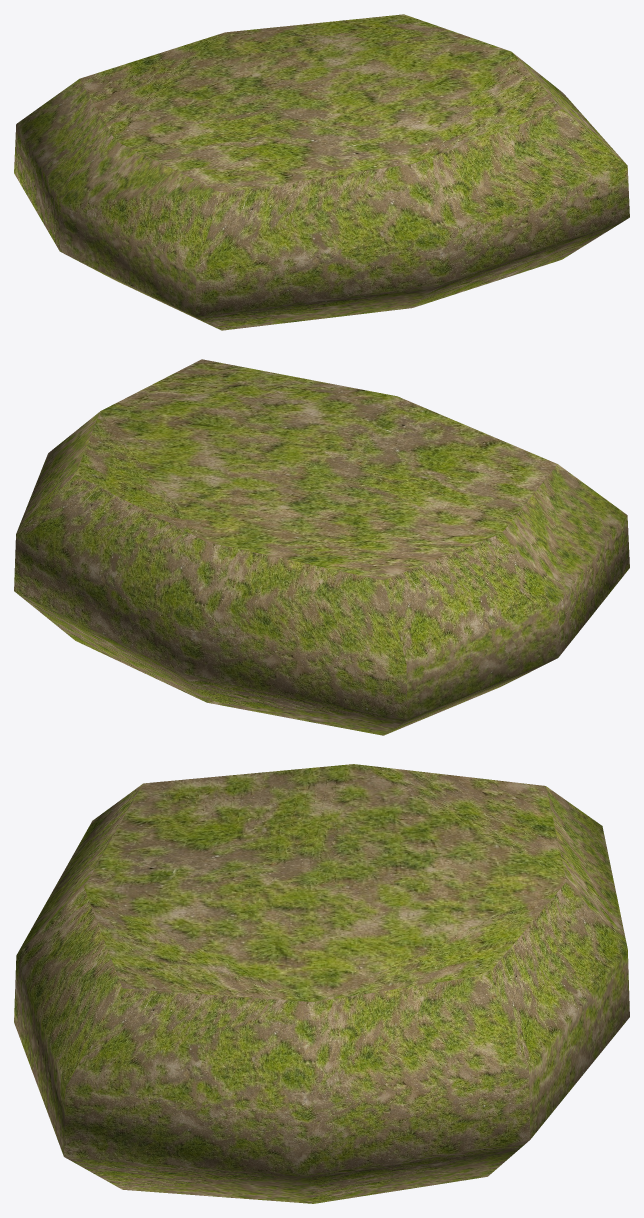
Rendered from floatingGrassMass.fbx.
The picture shows the model from 3 angles, top to bottom: view 1: azimuth 30°, elevation 25°; view 2: azimuth 150°, elevation 25°; view 3: azimuth 270°, elevation 25°; orthographic projection. The views are drawn at different scales.
Parts seen in each view (by area): view 1: pCube338; view 2: pCube338; view 3: pCube338.
Boxes of the visible parts, x1,y1,x2,y2 form: pCube338: (14,14,629,330); pCube338: (14,359,629,735); pCube338: (14,764,629,1203).
Bounding box in the file's own units: 17.96 × 5.35 × 14.75.
1 material, 1 textured.
